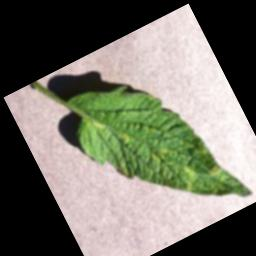Leaf_Mold: (146, 139, 179, 169), (175, 161, 204, 193), (205, 161, 223, 179), (116, 128, 133, 146)
